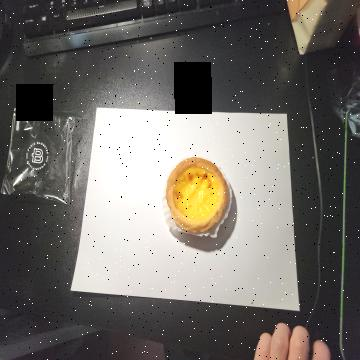EggTart: (166, 155, 228, 234)
